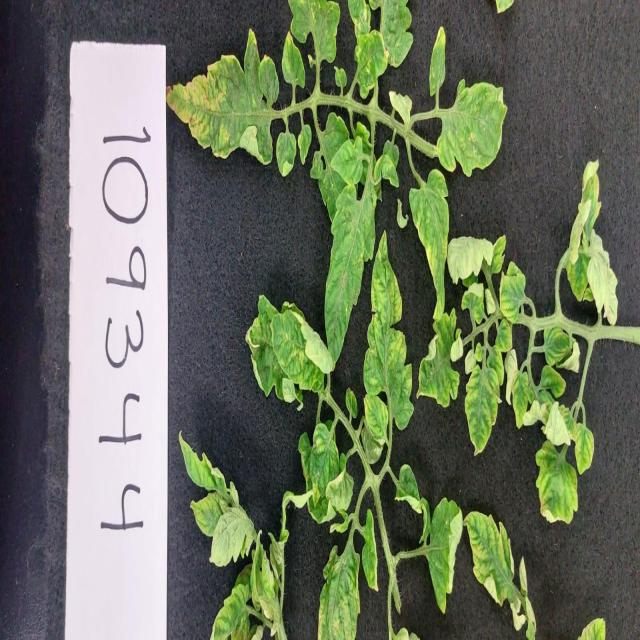T_L_H: (365, 231, 415, 428), (325, 174, 377, 361), (349, 1, 371, 36)
T_L_R: (167, 28, 280, 163), (466, 511, 537, 639), (438, 77, 509, 175), (410, 170, 450, 320), (272, 303, 325, 392), (319, 536, 361, 639), (419, 309, 460, 409), (537, 442, 579, 522), (466, 364, 500, 456), (311, 423, 341, 506), (356, 32, 389, 98), (365, 395, 390, 448), (431, 29, 446, 95), (576, 423, 595, 475)
